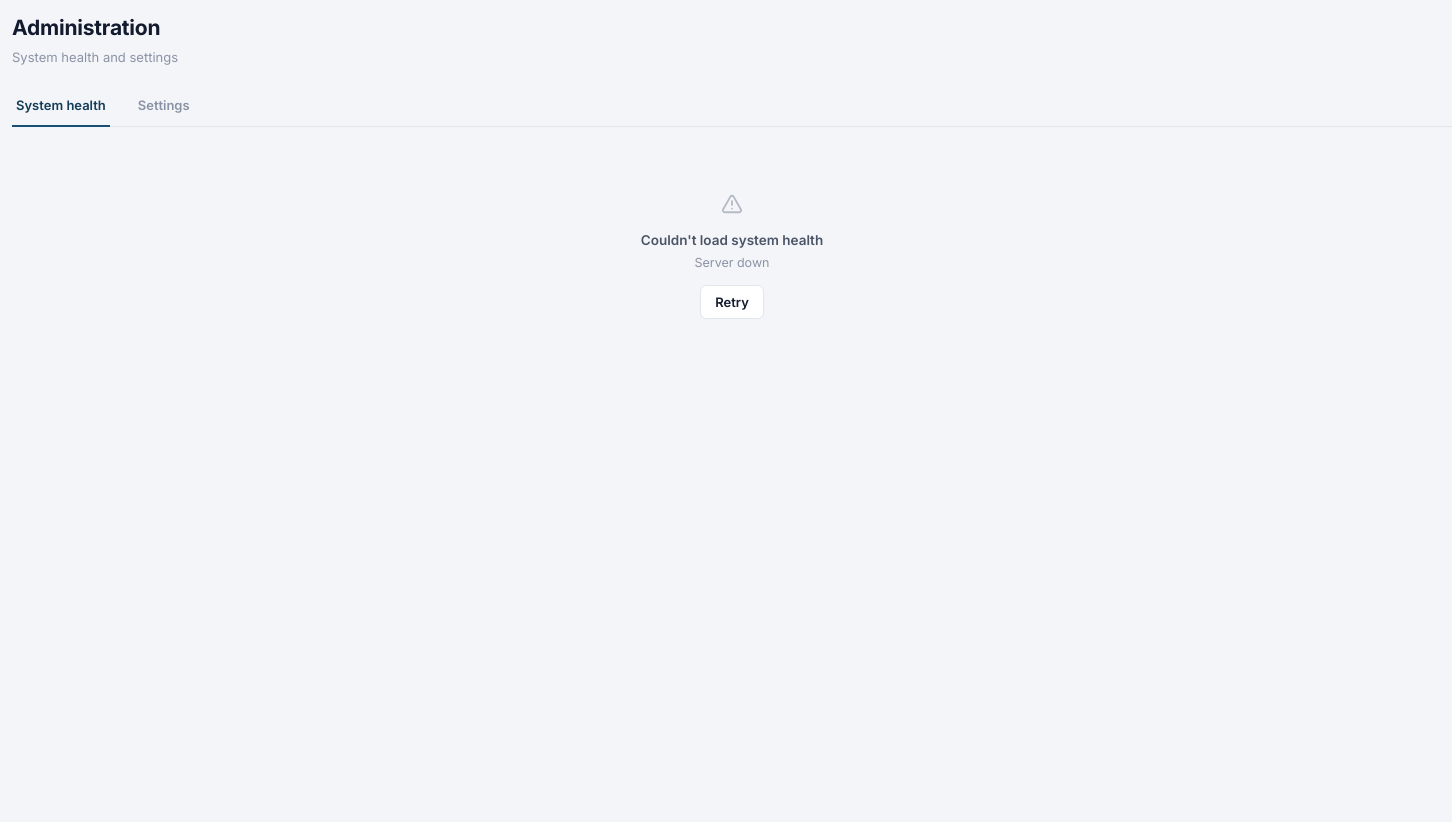
Scenario: Administration: health › offers a retry when loading fails
Expected: the text "Server down" is shown, [694, 255, 770, 270]
Click the button "Retry" at (732, 302), box [700, 284, 764, 318]
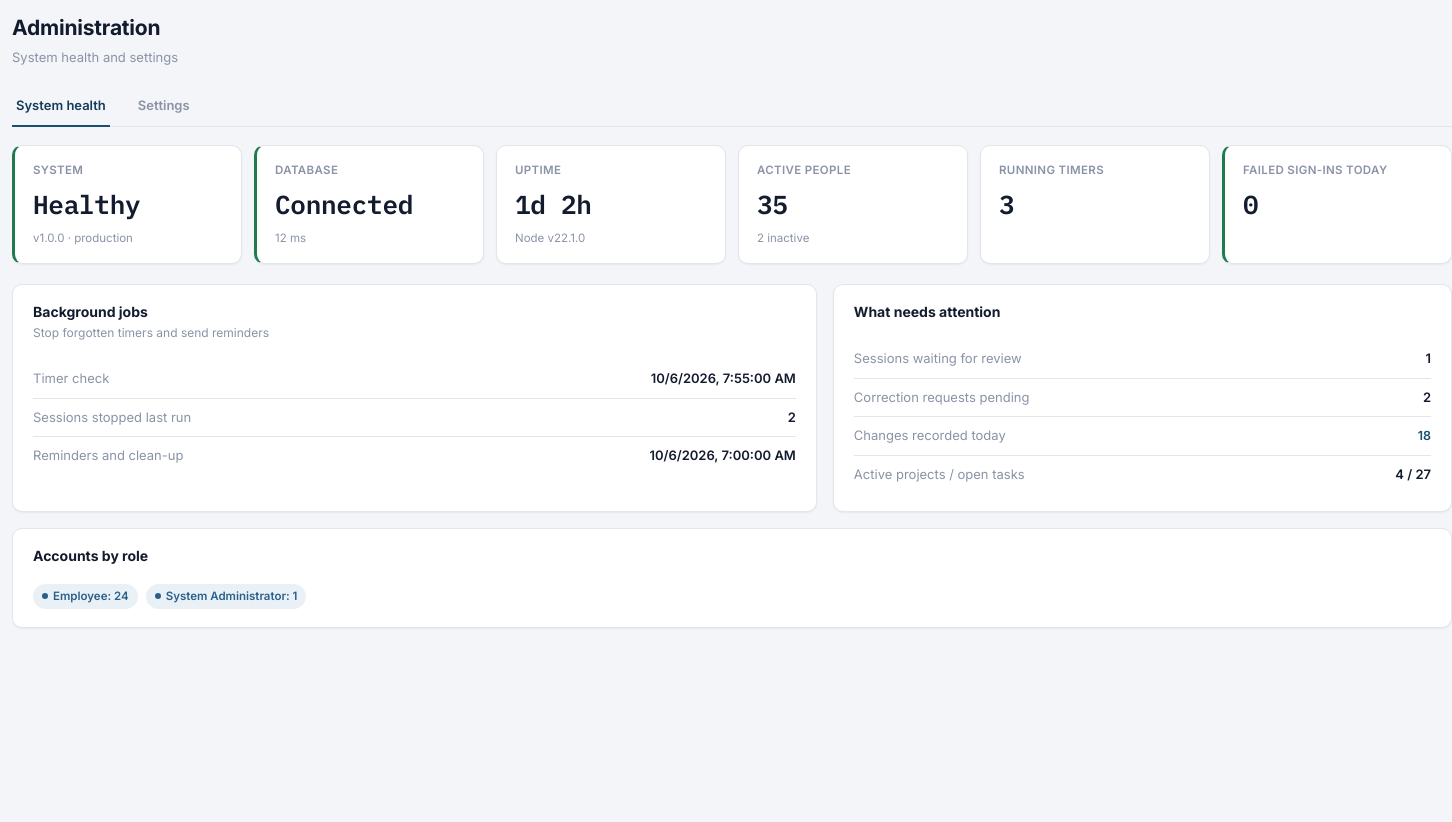
Now the text "Healthy" is shown, box [33, 187, 140, 221]
